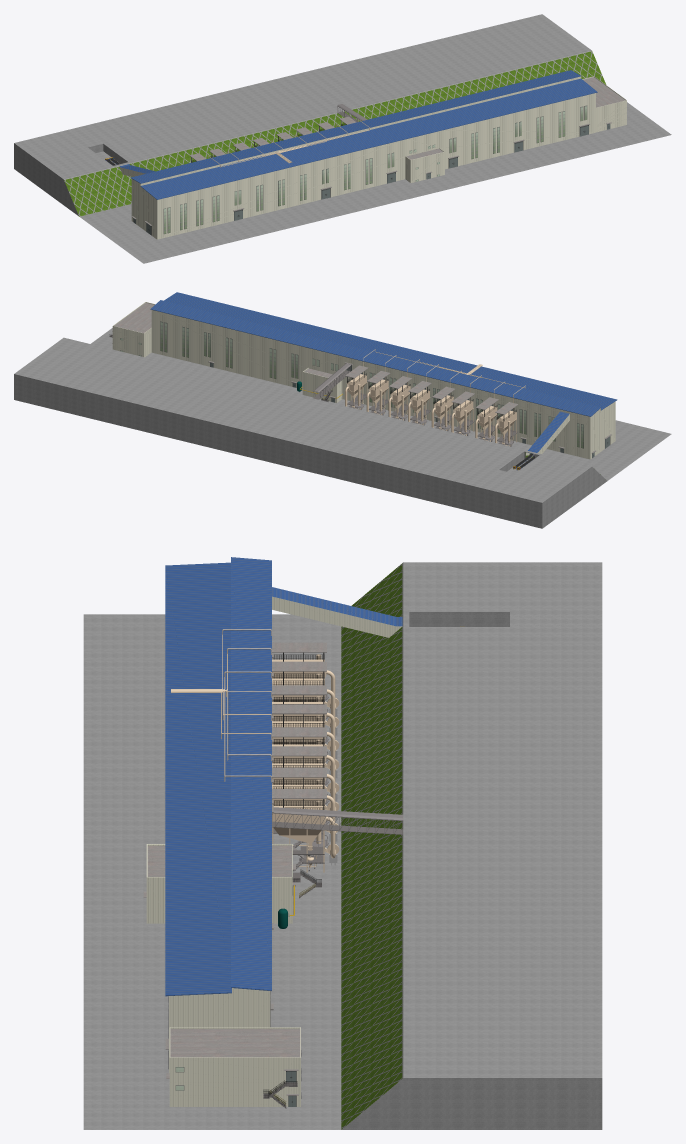
Rendered from 立磨间.gltf.
3 renders of one model, top to bottom at view 1: azimuth 30°, elevation 25°; view 2: azimuth 150°, elevation 25°; view 3: azimuth 270°, elevation 25°, orthographic. The views are drawn at different scales.
Parts seen in each view (by area): view 1: LM-louban, LM-waiqiang; view 2: LM-louban, LM-waiqiang, LM-shouchenqi-007, LM-shouchenqi-008, LM-shouchenqi-001, LM-shouchenqi-003, LM-shouchenqi-002, LM-shouchenqi-005, LM-shouchenqi-006, LM-shouchenqi-004; view 3: LM-louban, LM-waiqiang, LM-shouchenqi-008, LM-shouchenqi-002, LM-shouchenqi-004, LM-shouchenqi-006, LM-shouchenqi-005, LM-shouchenqi-003, LM-shouchenqi-001, LM-shouchenqi-007.
Boxes of the visible parts, x1,y1,x2,y2 form: LM-louban: (14, 14, 671, 263); LM-waiqiang: (119, 70, 626, 239); LM-louban: (14, 328, 671, 528); LM-waiqiang: (109, 292, 617, 459); LM-shouchenqi-007: (366, 379, 388, 414); LM-shouchenqi-008: (345, 373, 367, 409); LM-shouchenqi-001: (495, 410, 516, 446); LM-shouchenqi-003: (451, 399, 473, 435); LM-shouchenqi-002: (475, 405, 497, 441); LM-shouchenqi-005: (408, 389, 430, 425); LM-shouchenqi-006: (388, 384, 410, 420); LM-shouchenqi-004: (431, 395, 453, 430); LM-louban: (83, 562, 602, 1129); LM-waiqiang: (143, 557, 403, 1108); LM-shouchenqi-008: (272, 800, 339, 872); LM-shouchenqi-002: (272, 673, 339, 737); LM-shouchenqi-004: (272, 715, 339, 780); LM-shouchenqi-006: (272, 758, 339, 821); LM-shouchenqi-005: (272, 739, 339, 801); LM-shouchenqi-003: (272, 696, 339, 758); LM-shouchenqi-001: (272, 654, 339, 716); LM-shouchenqi-007: (272, 779, 338, 843).
Size of the model in its own units: 292 by 26.83 by 124.
107 materials, 23 textured.
